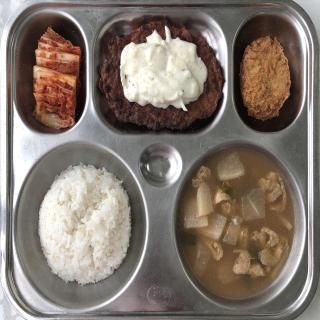Nasi: (36, 163, 136, 290)
